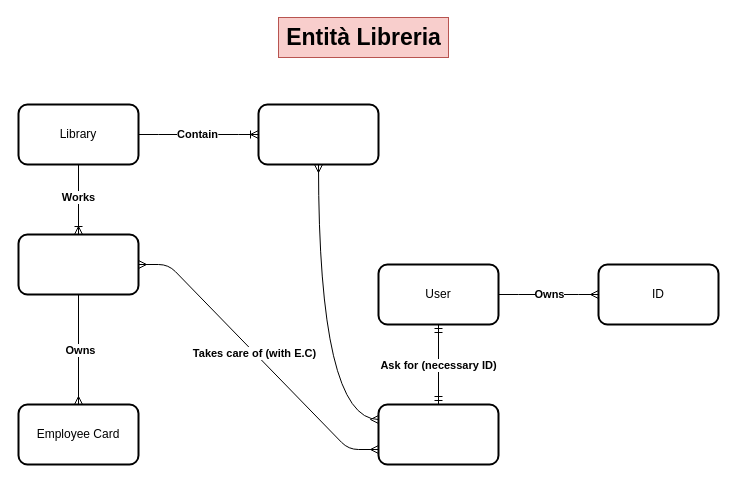
Some shapes in this 736 by 483 pixel diagram are drawn without their labels. The shapes that lost their labels are listed below. From the top down, each one's centre as x and y in pixels, then its label:
At (318,134): "Book".
At (78,264): "Employee".
At (438,434): "Rental".
